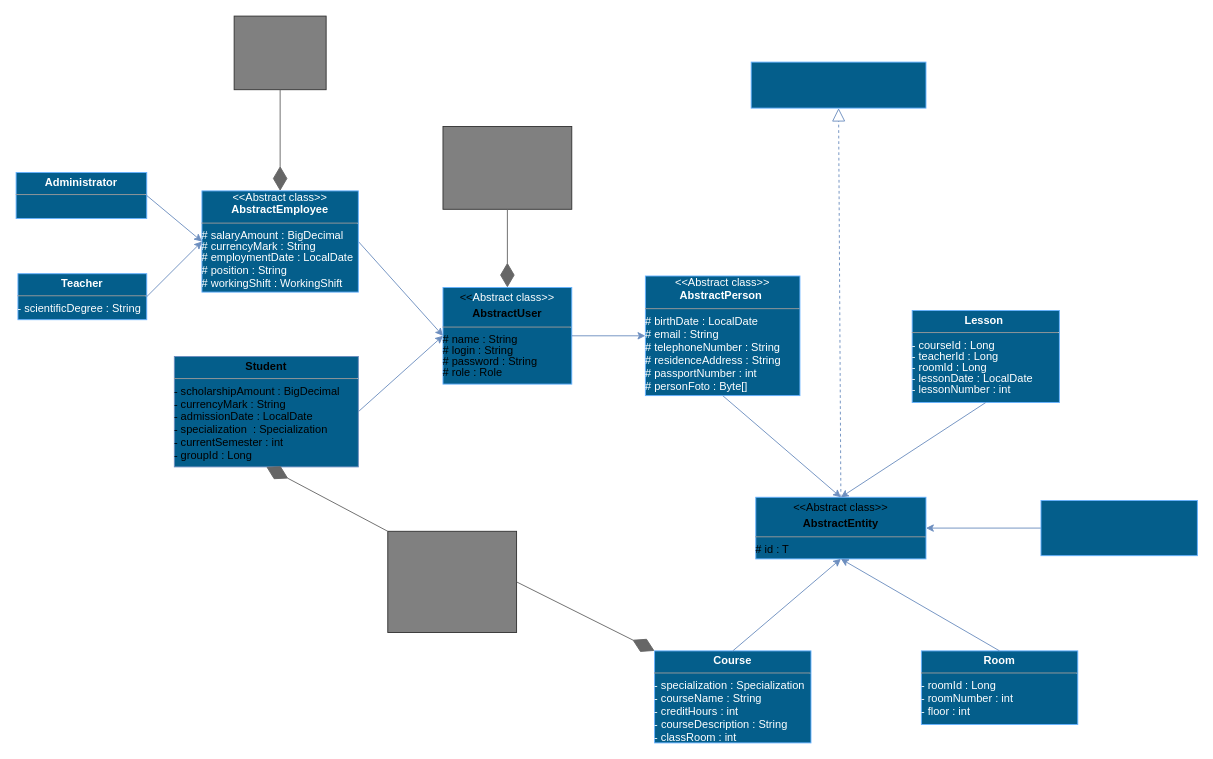
Image size: 1213x759. Some labels were removed from this diagram. Each missing label, with the box of its shape:
<<Enum>> Role ADMINISTRATOR TEACHER STUDENT: (442, 126, 572, 209)
<<Enum>> Specialization COMPUTER_SCIENCE MEDICINE ECONOMICS ART: (387, 530, 517, 632)
<<Enum>> WorkingShift FULL_TIME PART_TIME: (233, 15, 326, 90)
Group - groupName : String - specialization : String: (1040, 500, 1197, 556)
«interface» Entity<T>: (750, 61, 926, 108)
